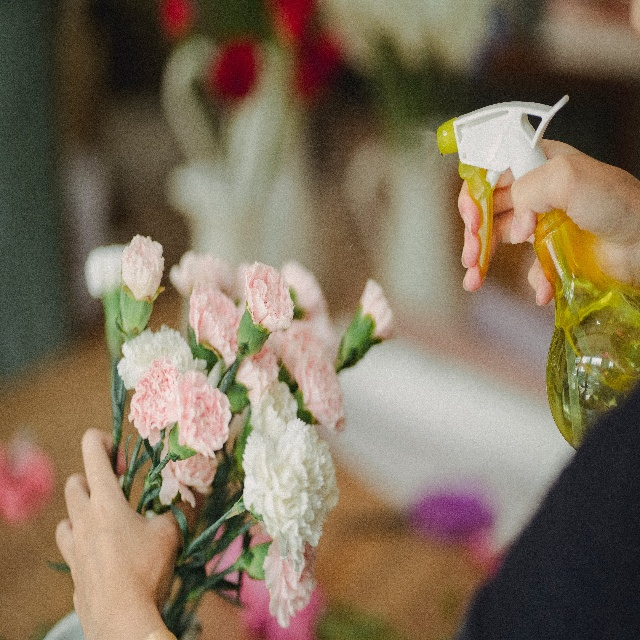Sin_guantes: (456, 143, 640, 309), (52, 425, 185, 626)
